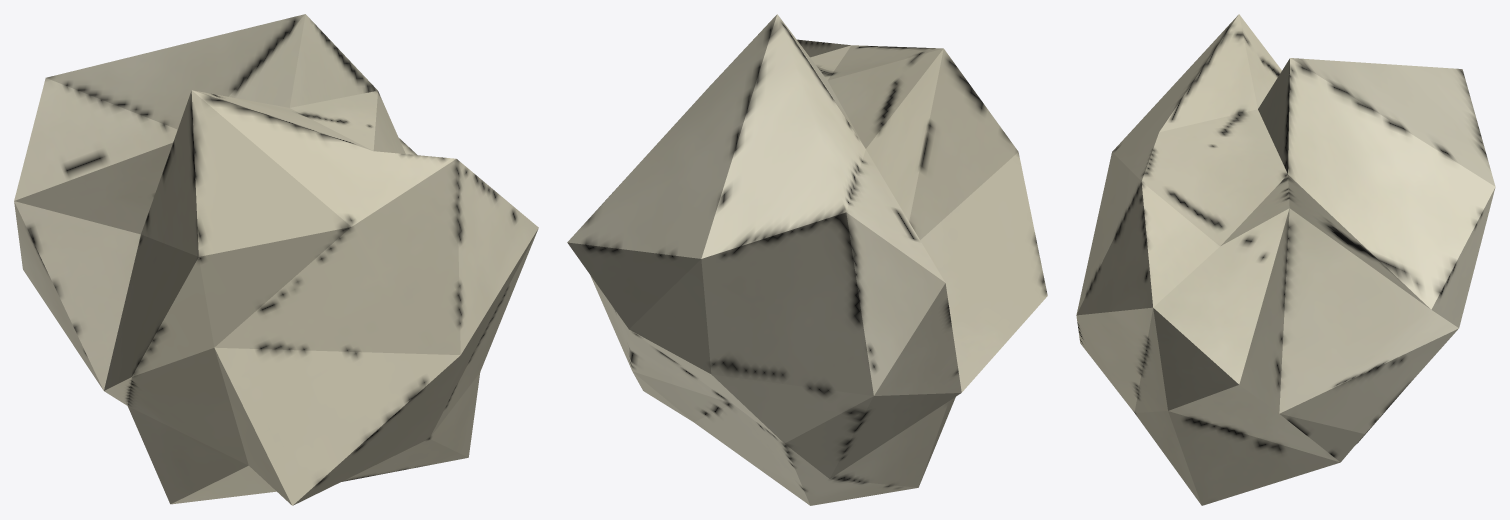
File: Paper_balll.fbx
3 renders of one model, left to right at view 1: azimuth 30°, elevation 25°; view 2: azimuth 150°, elevation 25°; view 3: azimuth 270°, elevation 25°, orthographic. The views are drawn at different scales.
Parts seen in each view (by area): view 1: paper ball; view 2: paper ball; view 3: paper ball.
Boxes of the visible parts, <box> form: paper ball: <box>14,14,538,505</box>; paper ball: <box>567,14,1047,505</box>; paper ball: <box>1076,14,1495,505</box>.
Bounding box in the file's own units: 21.48 × 21.15 × 19.29.
